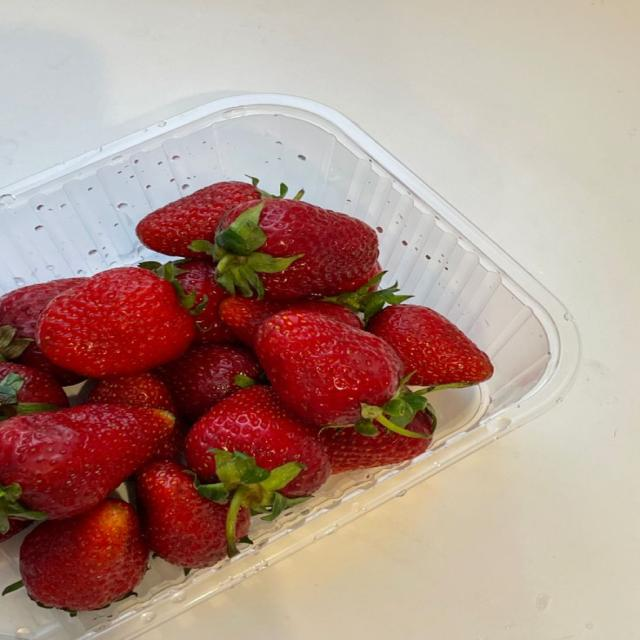strawberry: (186, 385, 330, 555), (0, 404, 174, 527), (256, 312, 426, 435), (193, 199, 378, 300), (36, 267, 195, 377), (186, 385, 330, 497), (20, 499, 148, 611), (368, 305, 493, 386), (137, 462, 228, 568), (136, 182, 260, 258), (0, 278, 86, 385), (158, 344, 261, 422), (140, 260, 233, 343), (320, 410, 434, 473), (220, 297, 361, 347), (0, 363, 68, 420), (87, 372, 177, 414), (87, 372, 176, 414), (340, 262, 383, 292), (0, 519, 33, 542)
